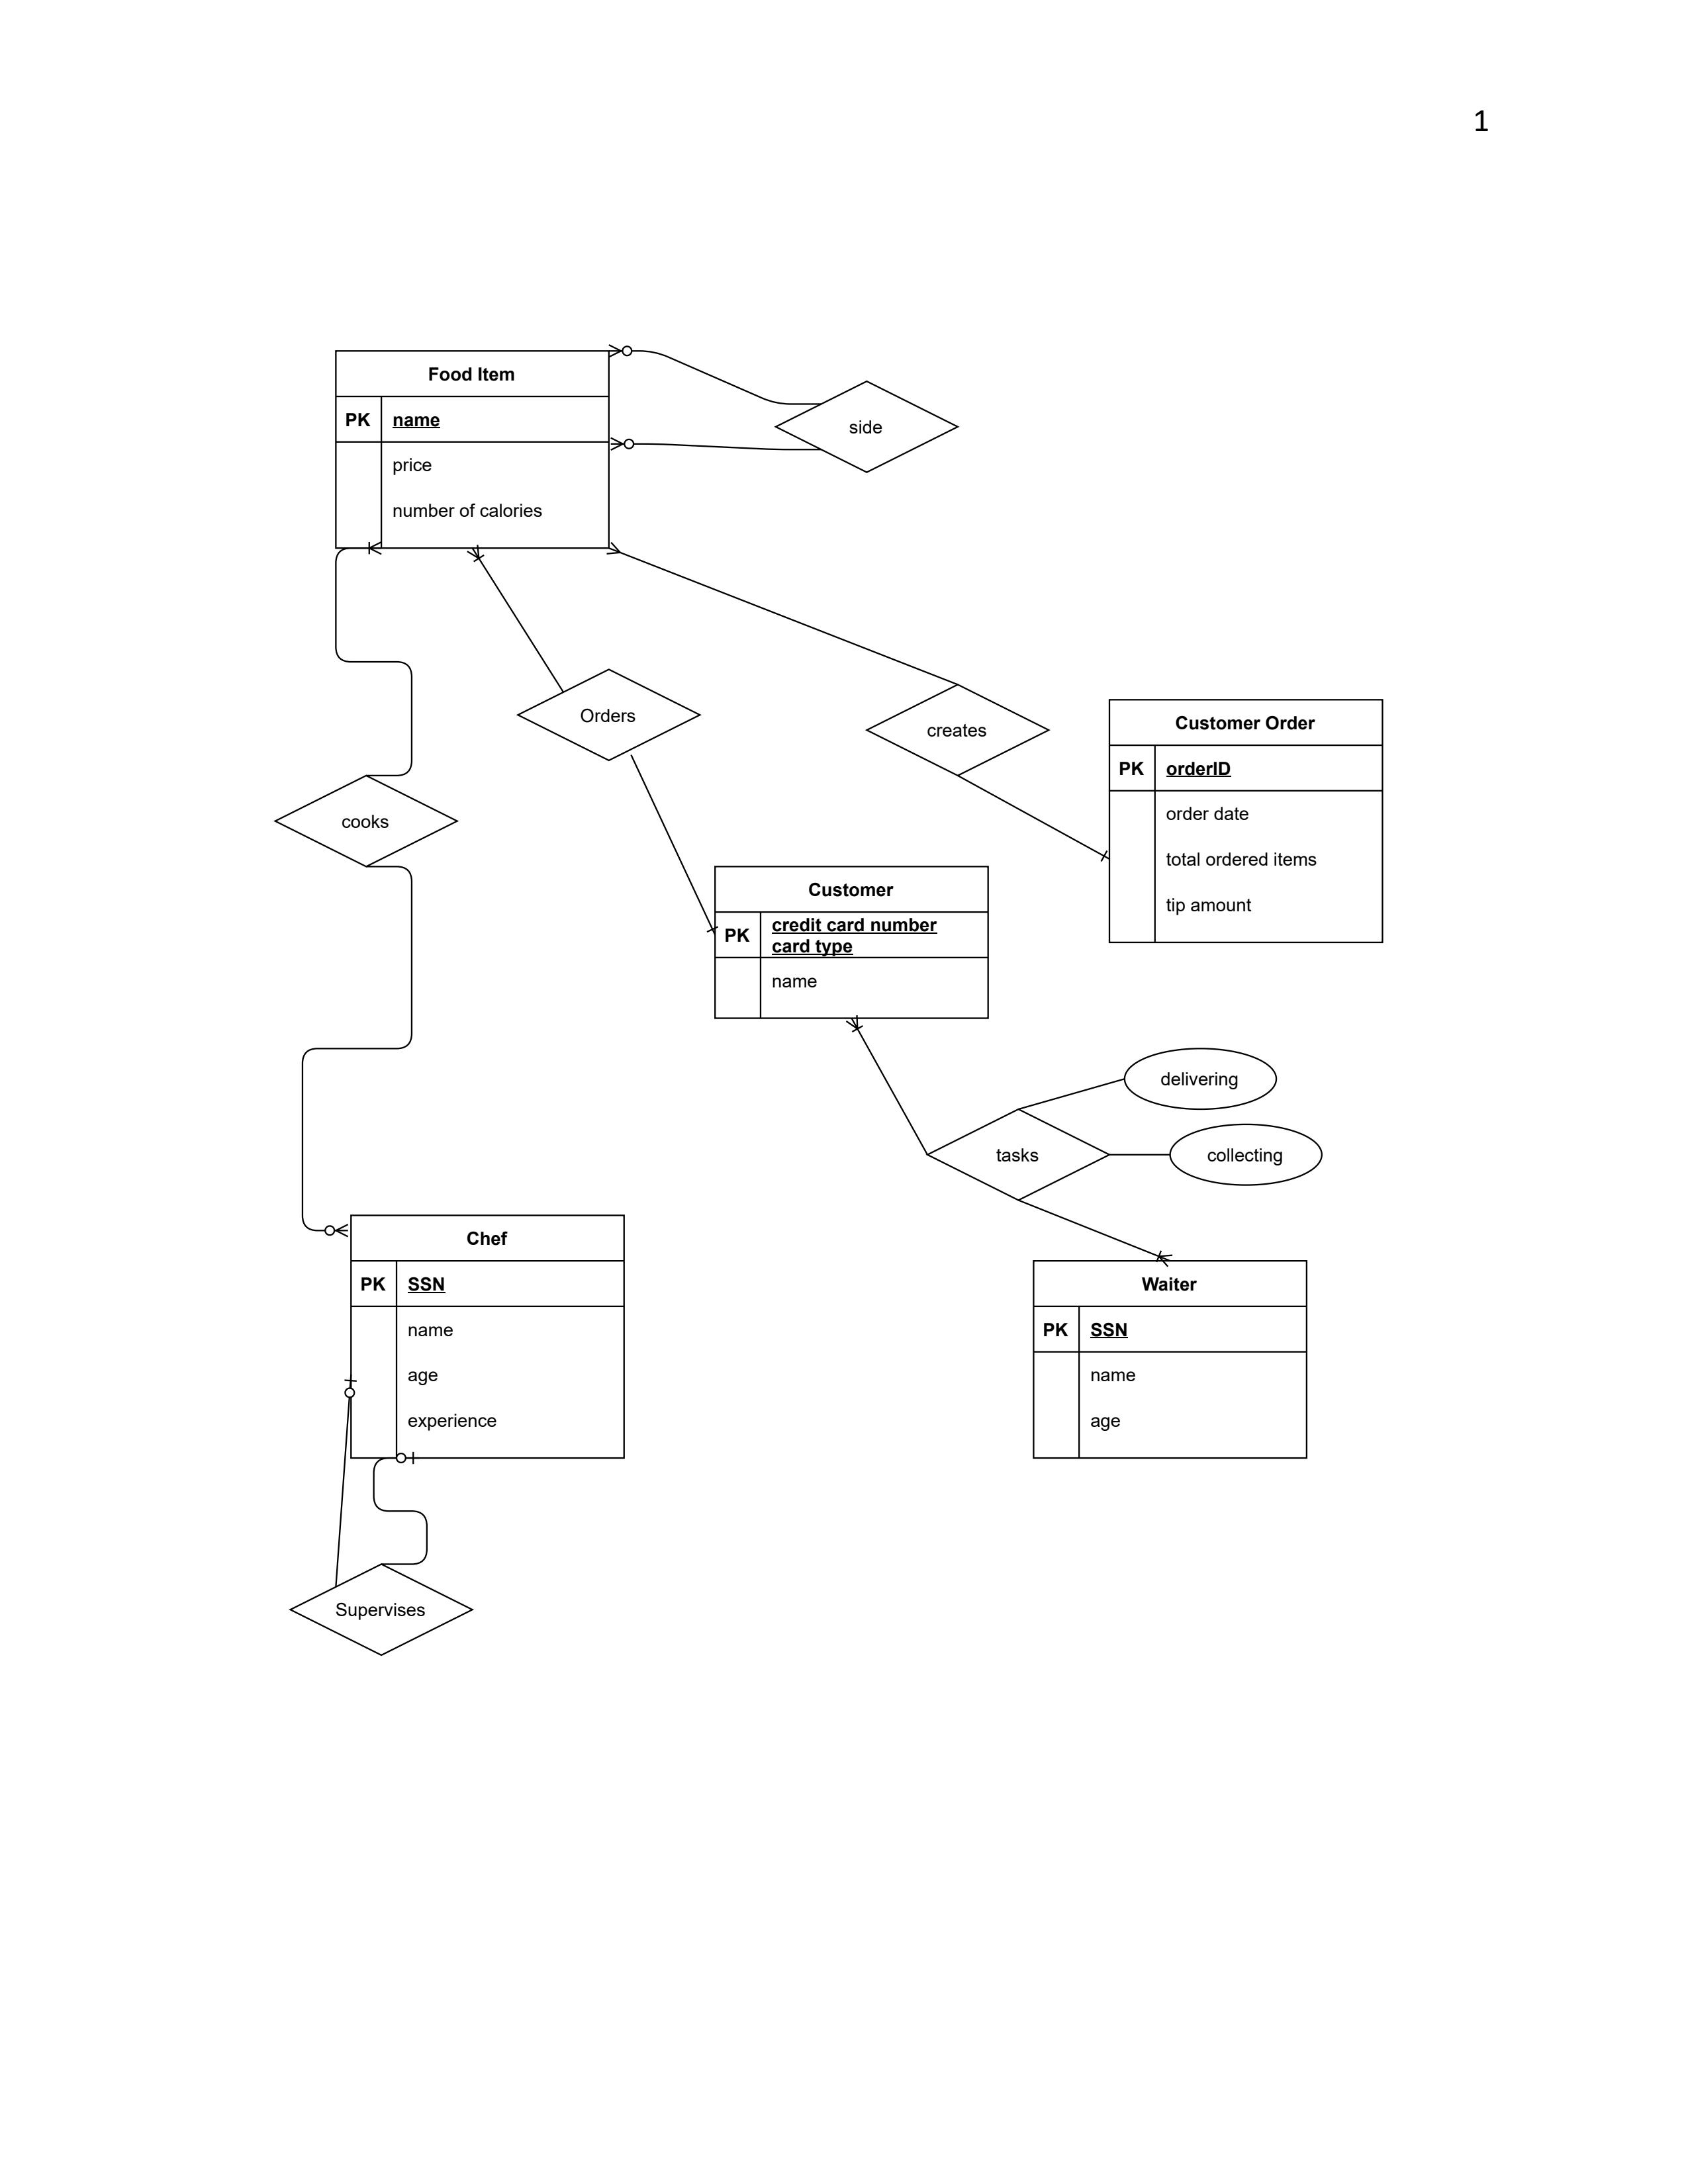Attribute: (1167, 1126, 1332, 1195), (1124, 1044, 1280, 1113)
Entity: (1099, 688, 1387, 954), (340, 1211, 635, 1466), (324, 344, 619, 562), (1021, 1253, 1317, 1466), (706, 862, 998, 1028)
Relationship: (271, 764, 466, 877), (284, 1558, 477, 1663), (764, 378, 966, 477), (512, 667, 711, 766), (860, 684, 1062, 782), (929, 1101, 1110, 1207)
